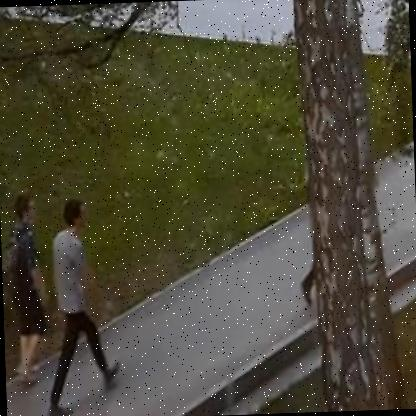person: (42, 195, 126, 416), (1, 185, 61, 386)
tree: (279, 0, 404, 413)
